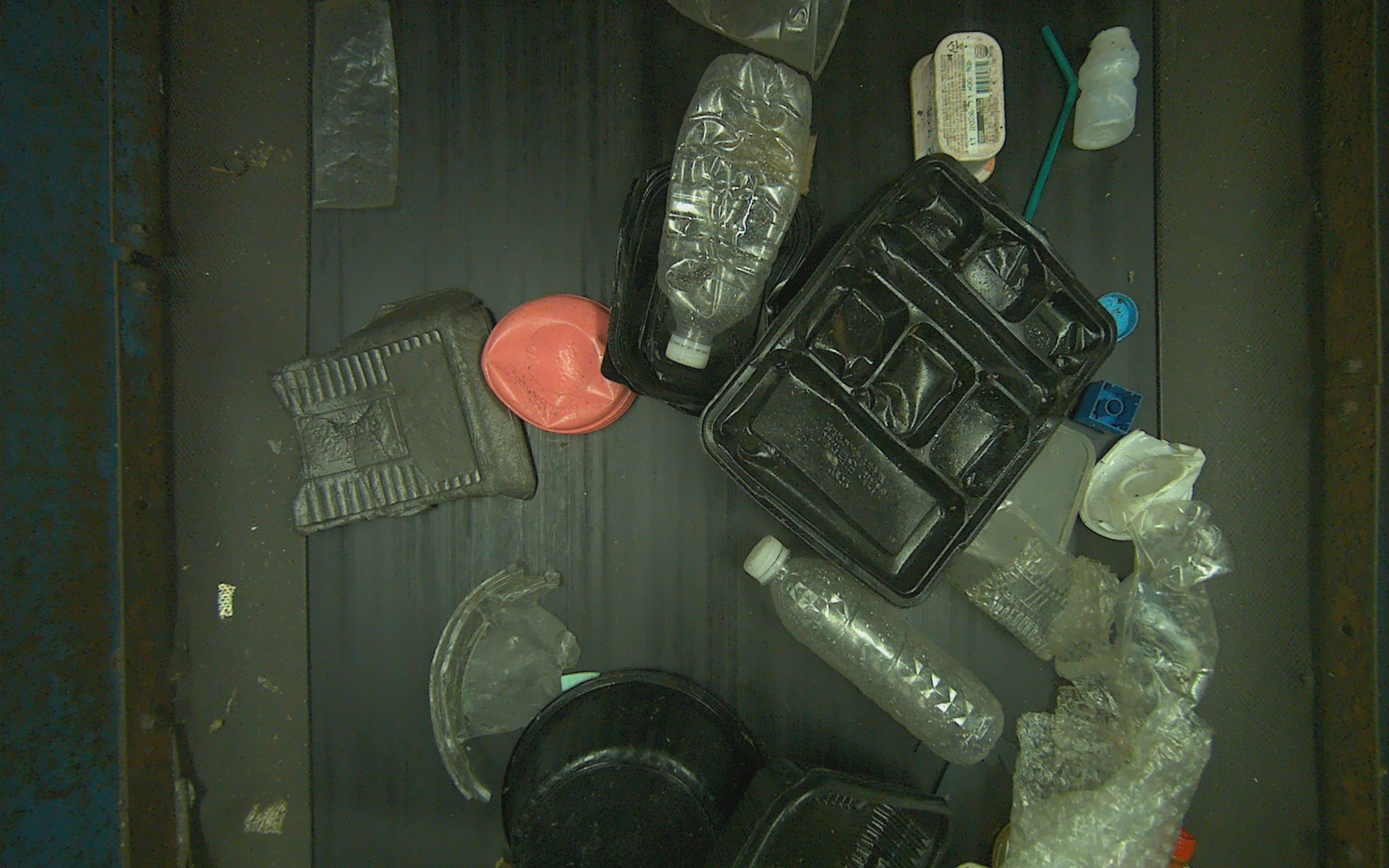PET: (745, 537, 1003, 762), (659, 55, 811, 367), (1119, 502, 1232, 706)
PET-C: (430, 566, 579, 801), (948, 501, 1074, 659)
PP-B: (701, 155, 1115, 606), (503, 671, 759, 868)
PS-W: (1081, 430, 1205, 539), (1074, 28, 1139, 149)
